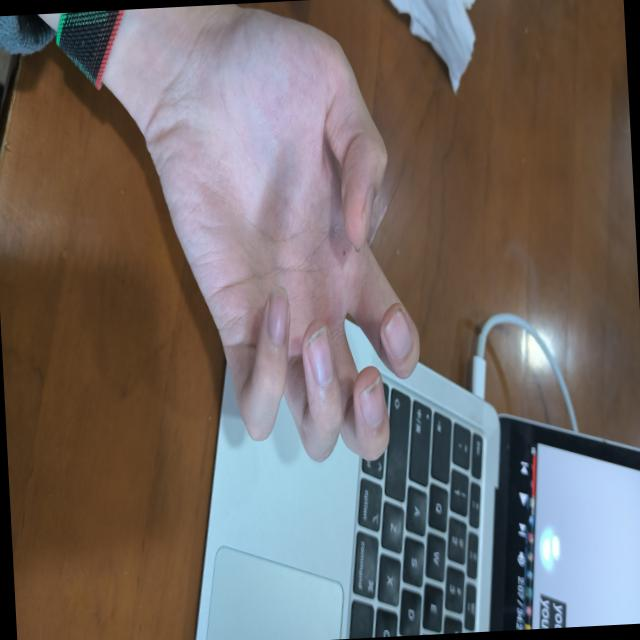Nail: (306, 327, 333, 388), (357, 376, 383, 429), (384, 310, 411, 361), (267, 286, 287, 346), (361, 186, 373, 245)
